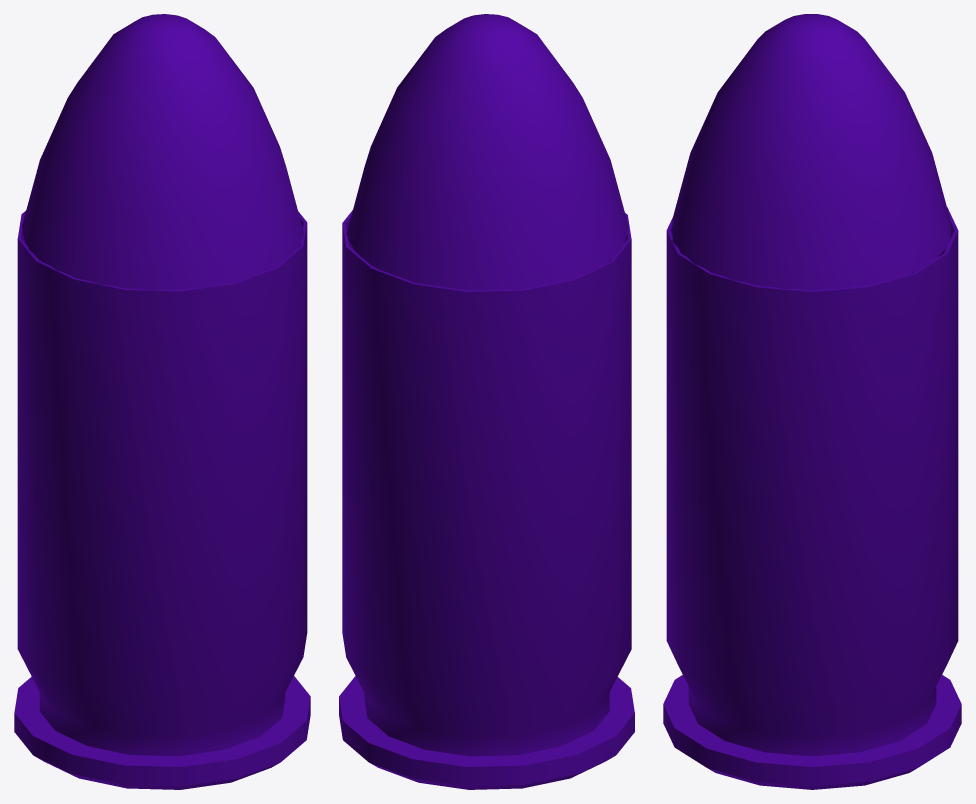
Rendered from bullet.fbx.
3 renders of one model, left to right at view 1: azimuth 30°, elevation 25°; view 2: azimuth 150°, elevation 25°; view 3: azimuth 270°, elevation 25°, orthographic.
Visible parts, largest first — view 1: Bullet; view 2: Bullet; view 3: Bullet.
Boxes of the visible parts, x1,y1,x2,y2 form: Bullet: [14, 14, 310, 789]; Bullet: [339, 14, 634, 789]; Bullet: [663, 14, 961, 789].
Bounding box in the file's own units: 0.0311 × 0.0118 × 0.0118.
